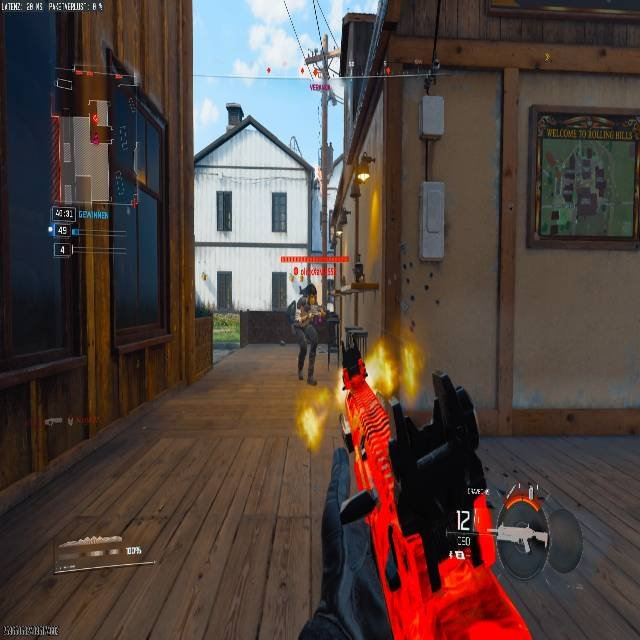head: (300, 283, 317, 300)
player: (292, 283, 326, 385), (315, 296, 337, 366)
